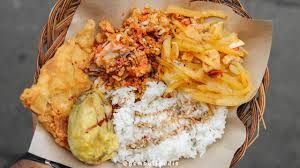ayam_geprek: (99, 3, 259, 114)
